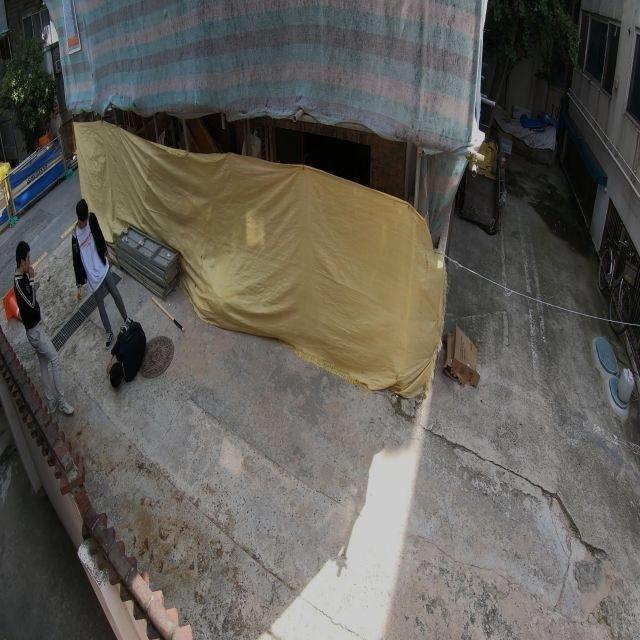fight: (3, 196, 148, 384)
